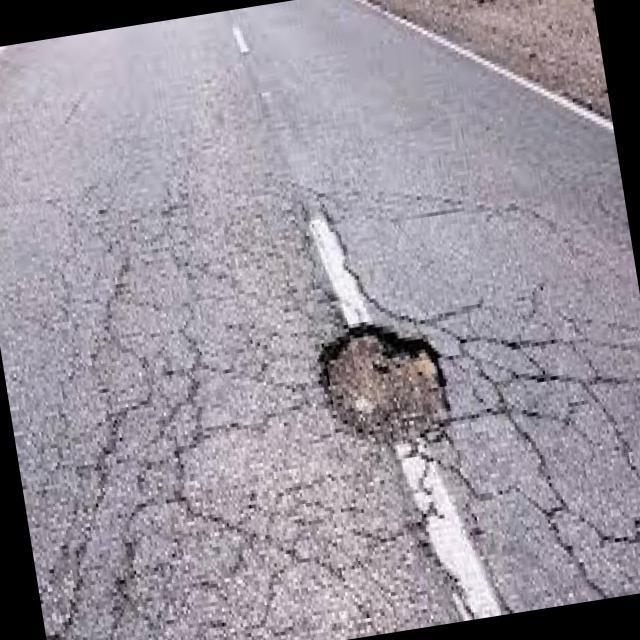Pothole: (319, 325, 451, 449)
